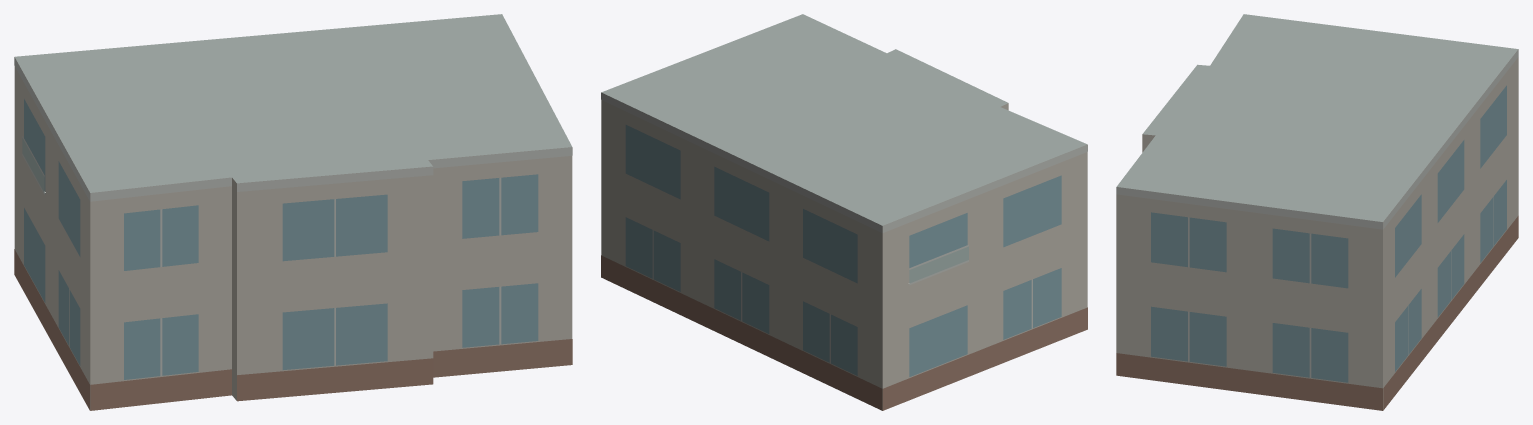
Rendered from survey-upis-32888643.glb.
The picture shows the model from 3 angles, left to right: view 1: azimuth 30°, elevation 25°; view 2: azimuth 150°, elevation 25°; view 3: azimuth 270°, elevation 25°; orthographic projection. The views are drawn at different scales.
Visible parts, largest first — view 1: survey-upis-32888643.tmp; view 2: survey-upis-32888643.tmp; view 3: survey-upis-32888643.tmp.
Part boxes in pixels (bbox=[...]): survey-upis-32888643.tmp: bbox=[14, 14, 572, 410]; survey-upis-32888643.tmp: bbox=[601, 14, 1087, 410]; survey-upis-32888643.tmp: bbox=[1116, 14, 1518, 410].
Size of the model in its own units: 14.44 by 6.1 by 11.79.
